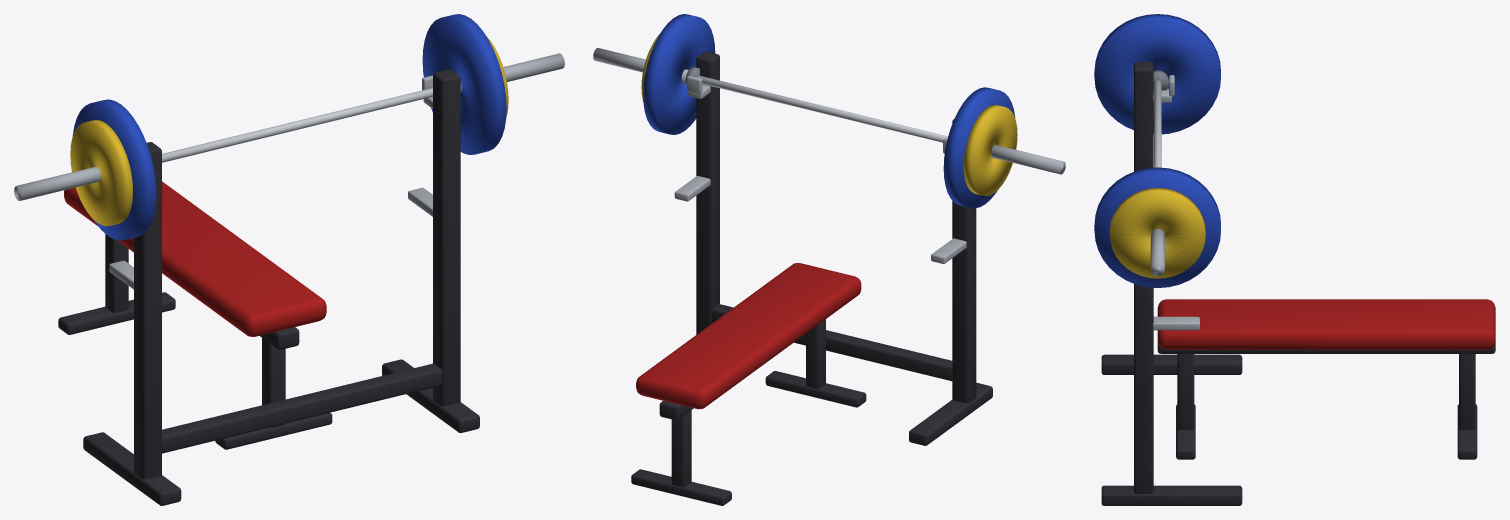
The model's file is bench_press.glb.
3 views of the same model, side by side, from view 1: azimuth 30°, elevation 25°; view 2: azimuth 150°, elevation 25°; view 3: azimuth 270°, elevation 25° (orthographic). The views are drawn at different scales.
Parts seen in each view (by area): view 1: bench_press; view 2: bench_press; view 3: bench_press.
Boxes of the visible parts, <box> form: bench_press: <box>14,14,564,505</box>; bench_press: <box>593,14,1065,505</box>; bench_press: <box>1094,14,1495,505</box>.
Size of the model in its own units: 2 by 1.35 by 1.43.
